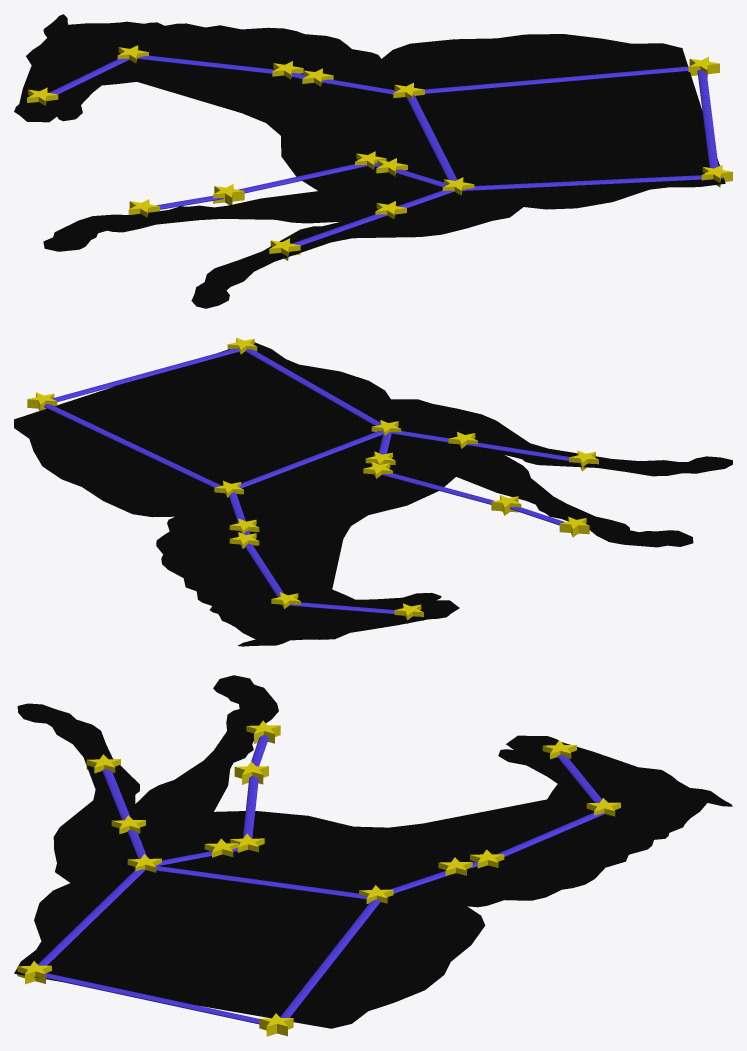
File: Pegasasu-za.glb
3 views of the same model, one above another, from view 1: azimuth 30°, elevation 25°; view 2: azimuth 150°, elevation 25°; view 3: azimuth 270°, elevation 25° (orthographic). The views are drawn at different scales.
Parts seen in each view (by area): view 1: 円, 円柱.005, 円柱.002, 円柱.004, 円柱.006, 円柱.012, 円柱.008, 円柱.003, 円柱.011; view 2: 円, 円柱.005, 円柱.004, 円柱.002, 円柱.006, 円柱.008; view 3: 円, 円柱.004, 円柱.005, 円柱.006, 円柱.002, 円柱.012, 円柱.008.
Part boxes in pixels (x1,y1,x2,y2): 円: (14,14,725,308); 円柱.005: (424,66,689,93); 円柱.002: (462,175,723,190); 円柱.004: (697,69,718,168); 円柱.006: (407,95,457,180); 円柱.012: (137,55,274,73); 円柱.008: (238,164,367,193); 円柱.003: (292,214,387,245); 円柱.011: (49,58,129,94); 円: (14,342,732,646); 円柱.005: (44,404,221,487); 円柱.004: (52,348,239,401); 円柱.002: (245,349,380,425); 円柱.006: (239,431,383,488); 円柱.008: (382,473,494,504); 円: (14,675,732,1028); 円柱.004: (45,973,259,1024); 円柱.005: (280,899,380,1017); 円柱.006: (155,865,367,899); 円柱.002: (34,869,145,976); 円柱.012: (497,812,604,856); 円柱.008: (242,776,258,838).
Bounding box in the file's own units: 70.07 × 0.8959 × 59.61.
